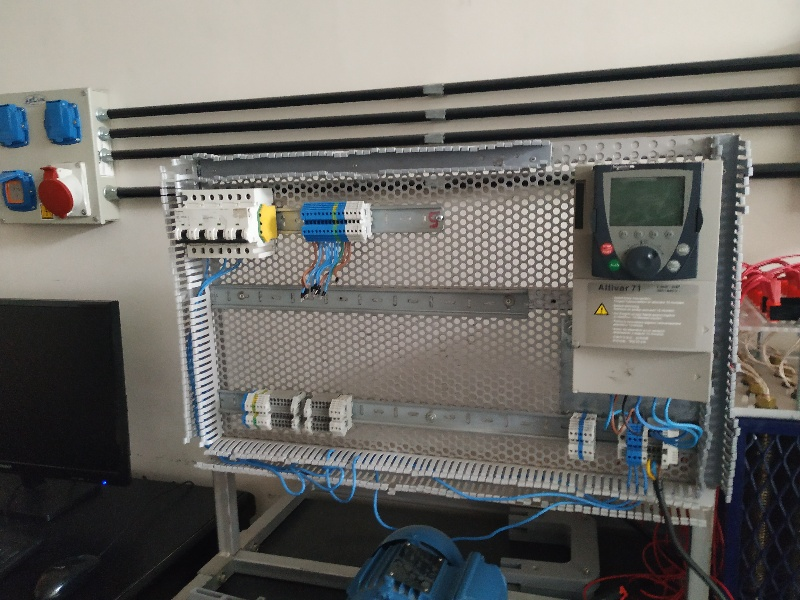Tablero 0: (172, 150, 733, 506)
